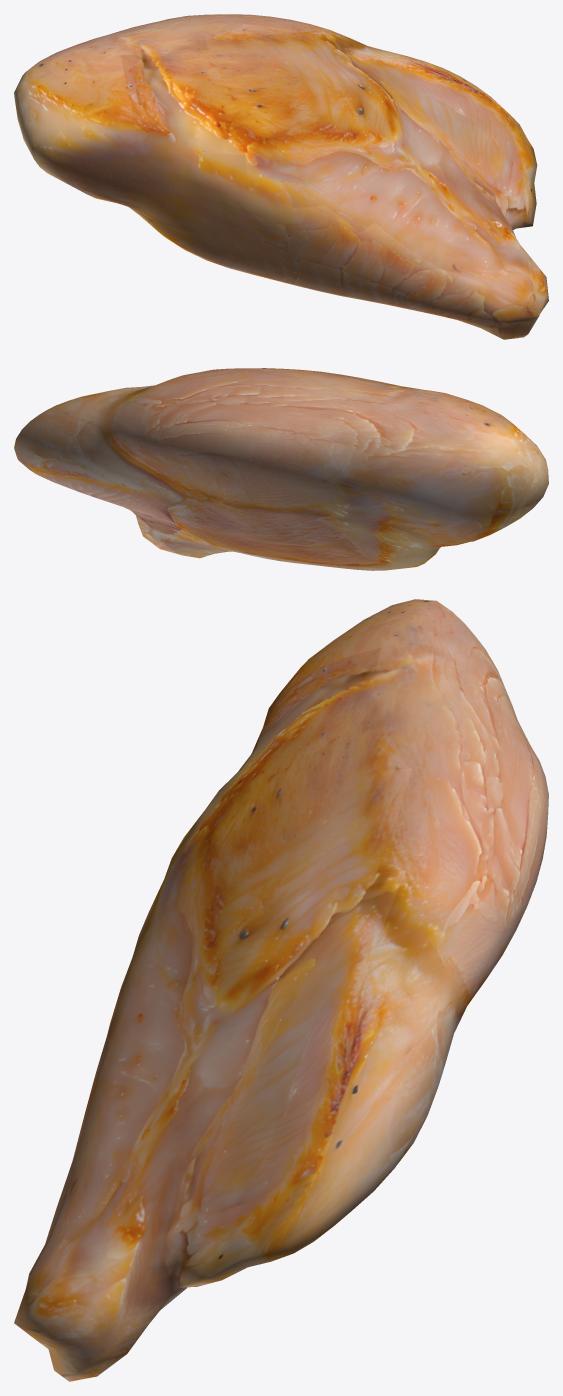
Rendered from CookedChickenBreast.fbx.
3 renders of one model, top to bottom at view 1: azimuth 30°, elevation 25°; view 2: azimuth 150°, elevation 25°; view 3: azimuth 270°, elevation 25°, orthographic. The views are drawn at different scales.
Parts seen in each view (by area): view 1: default; view 2: default; view 3: default.
Part boxes in pixels (bbox=[...]): default: bbox=[14, 14, 548, 339]; default: bbox=[14, 368, 548, 570]; default: bbox=[14, 599, 548, 1381].
Bounding box in the file's own units: 4.94 × 2.87 × 2.84.
